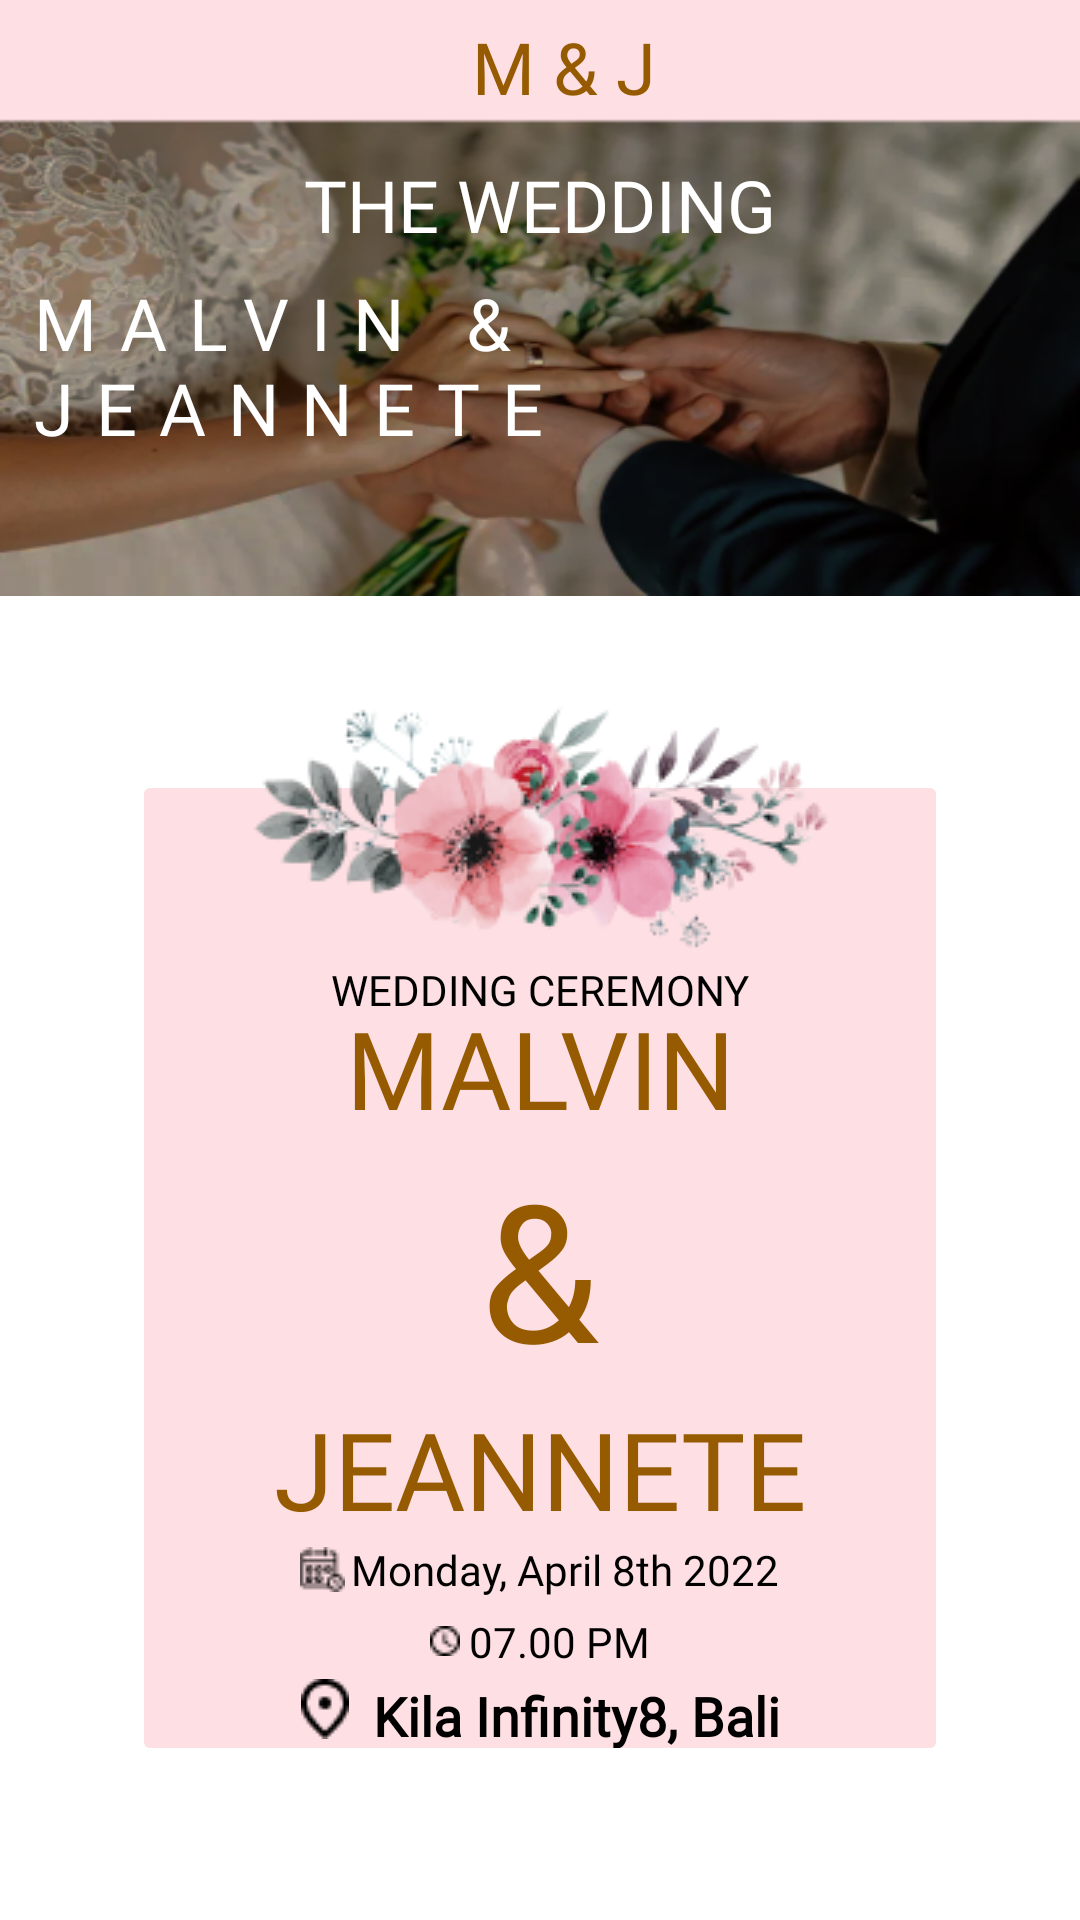

Named icons in this screenshot (1080px×1920px) and their bounding boxes, [x1=x1, y1=y1, x2=x2, y2=y2]:
clock: [x1=430, y1=1626, x2=460, y2=1656]
geolocation: [x1=301, y1=1679, x2=349, y2=1739]
